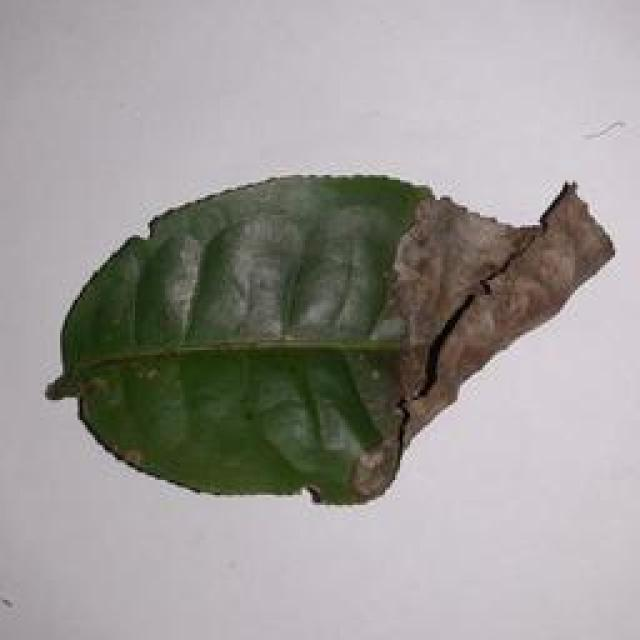Brown Blight: (29, 143, 622, 511)
